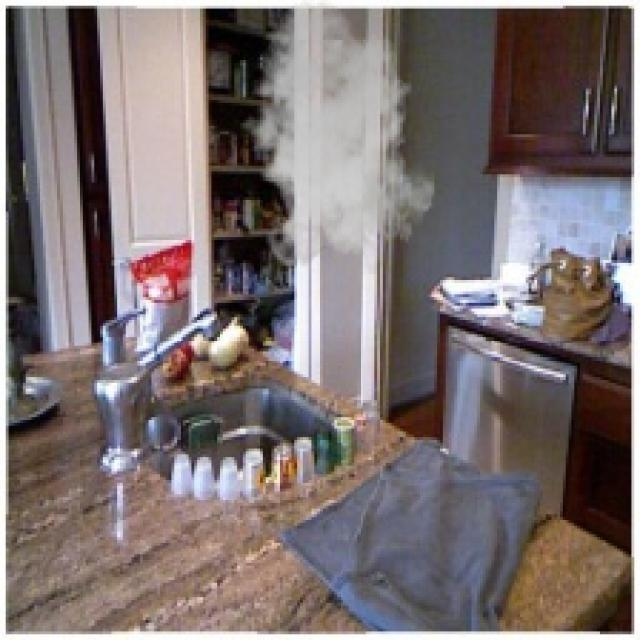Smoke: (231, 0, 435, 275)
